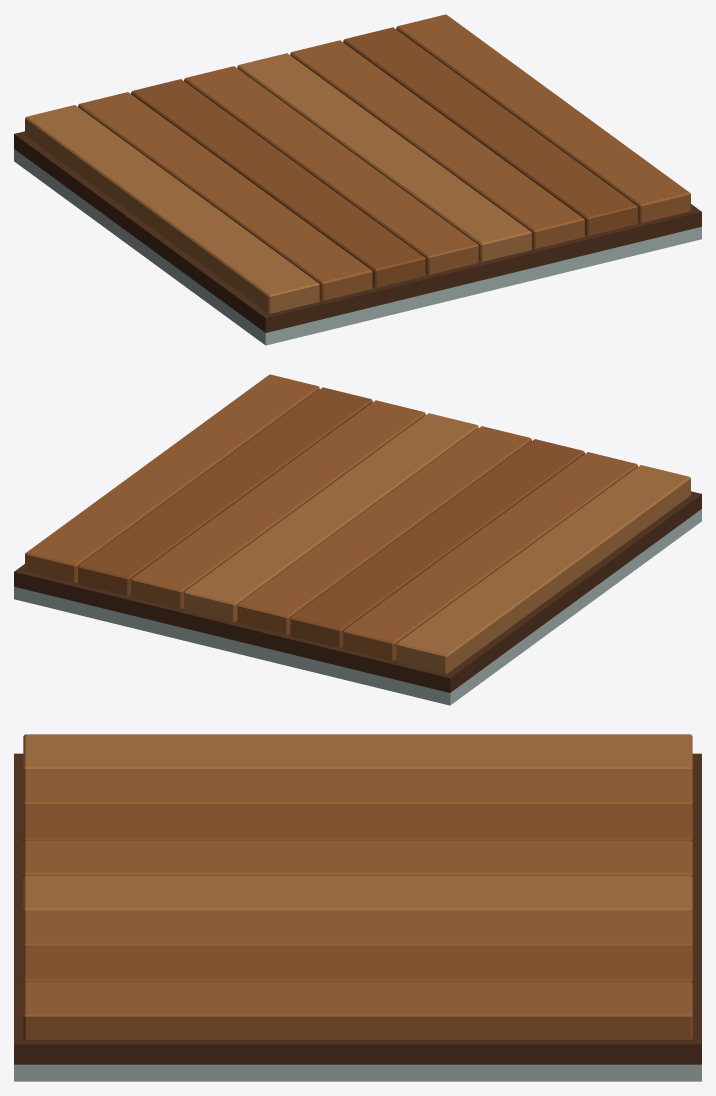
File: floor_2m.glb
The picture shows the model from 3 angles, top to bottom: view 1: azimuth 30°, elevation 25°; view 2: azimuth 150°, elevation 25°; view 3: azimuth 270°, elevation 25°; orthographic projection. The views are drawn at different scales.
Parts seen in each view (by area): view 1: SM_Floor_2m; view 2: SM_Floor_2m; view 3: SM_Floor_2m.
Part boxes in pixels (x1,y1,x2,y2): SM_Floor_2m: [14, 14, 701, 345]; SM_Floor_2m: [14, 374, 701, 705]; SM_Floor_2m: [14, 734, 701, 1081].
Bounding box in the file's own units: 2 × 0.2 × 2.
